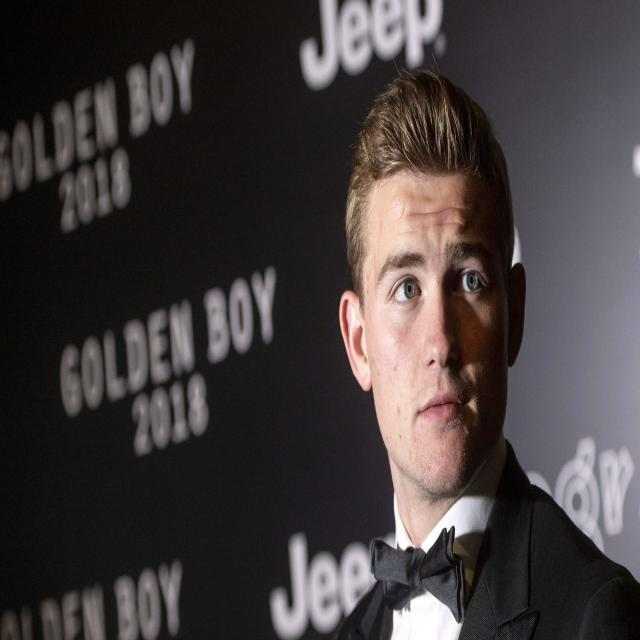human: (314, 68, 640, 640)
